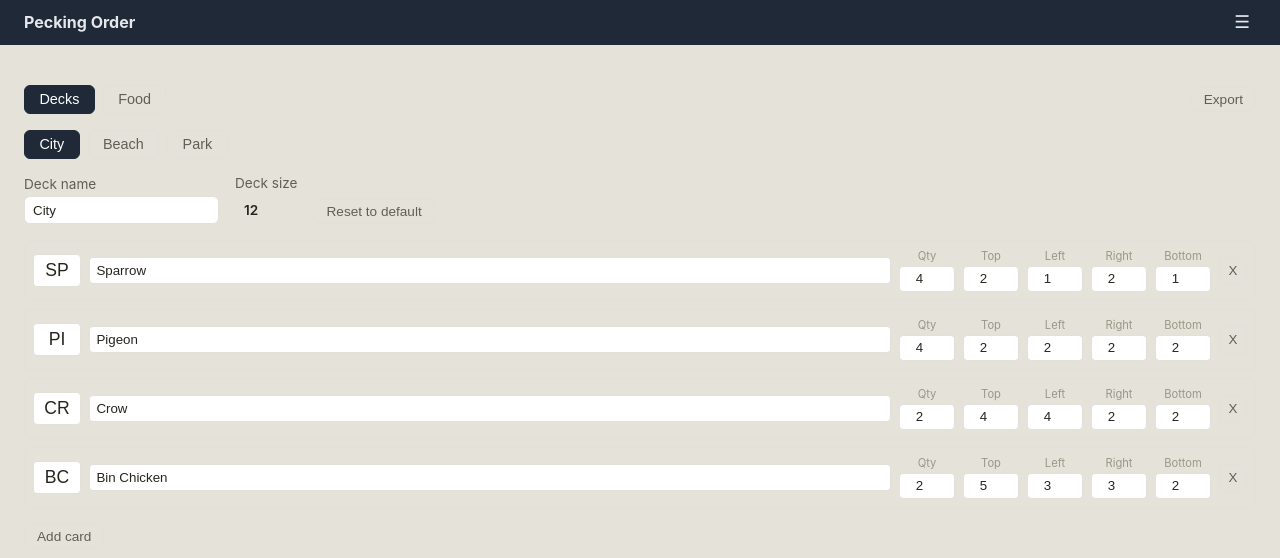
Test: App › closes the hamburger menu when a link inside it is clicked
Click the button named "Menu" at coordinates (1242, 23), box x1=1228 y1=13 x2=1256 y2=33
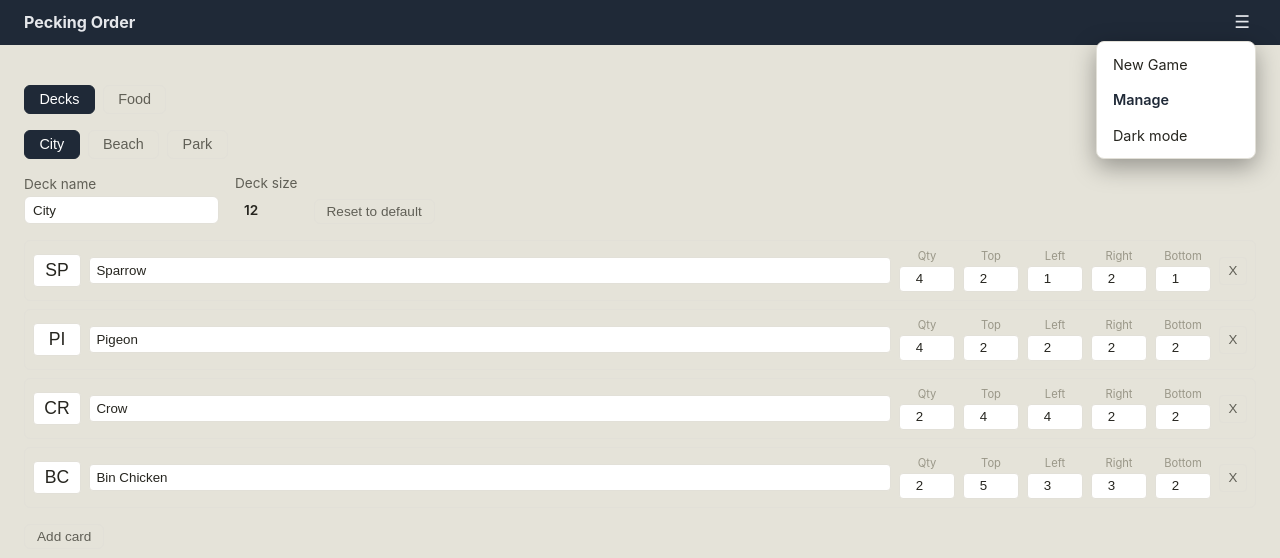
Click the link "Manage" at coordinates (1141, 100), box x1=1113 y1=91 x2=1169 y2=108
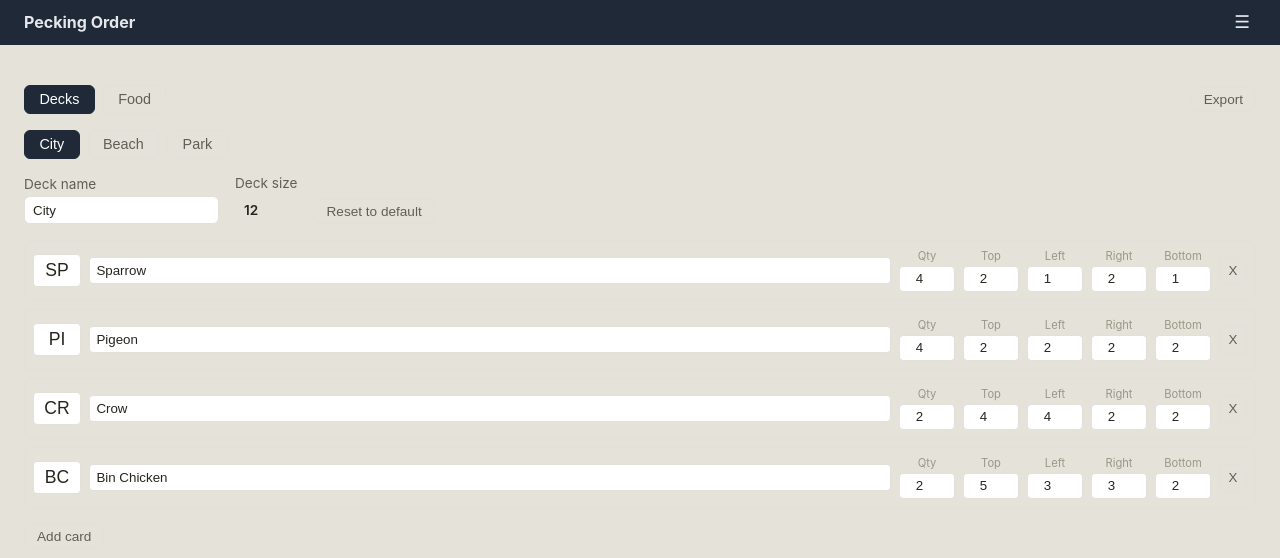
Expected: the link "Manage" is gone
